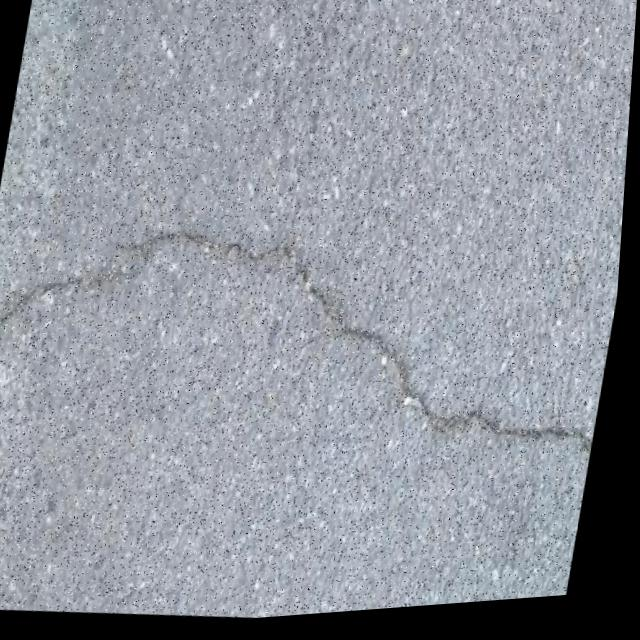Crack: (0, 182, 629, 519)
